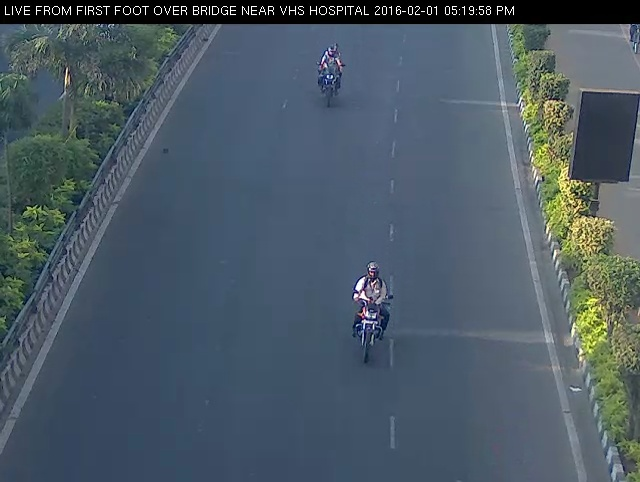Person: (343, 246, 399, 374), (313, 37, 353, 115)
